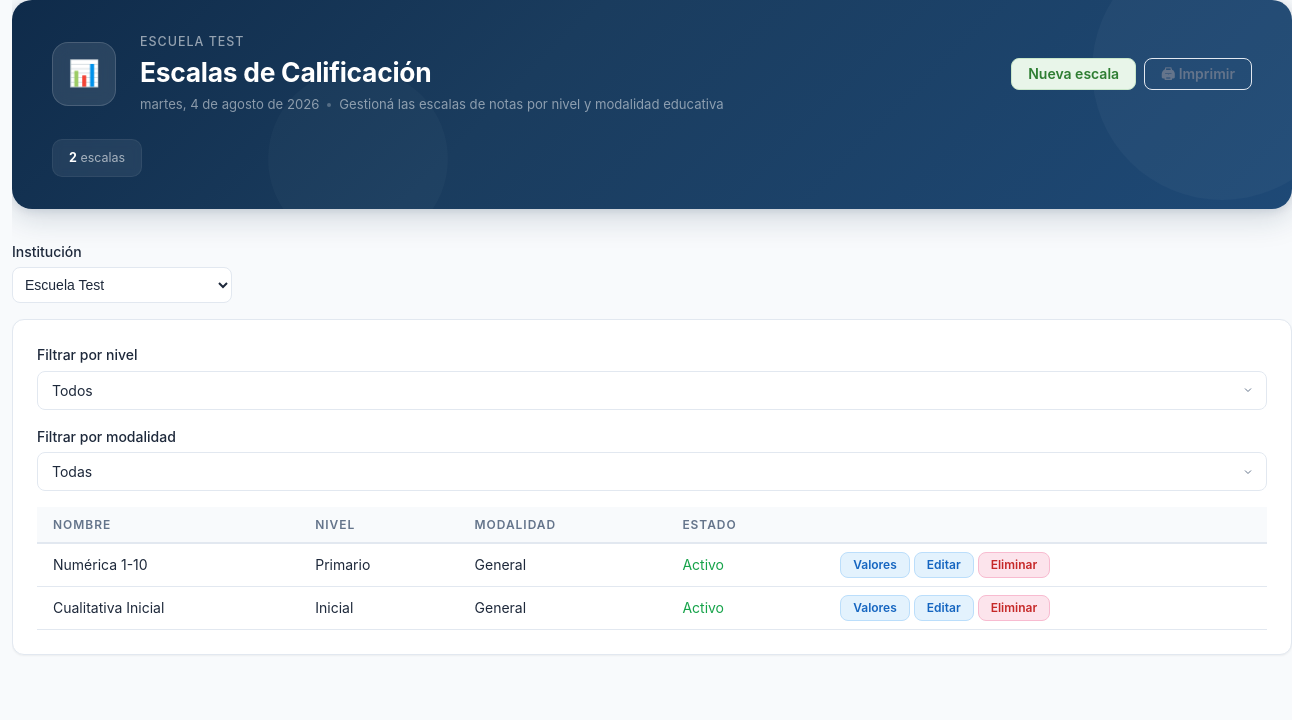
Test: GradingScalesPage — basic rendering › form to create scale has name, level and modality fields
The width and height of the screenshot is (1292, 720).
Open the create form
Click the button "Nueva escala": (1074, 74) [1011, 58, 1136, 90]
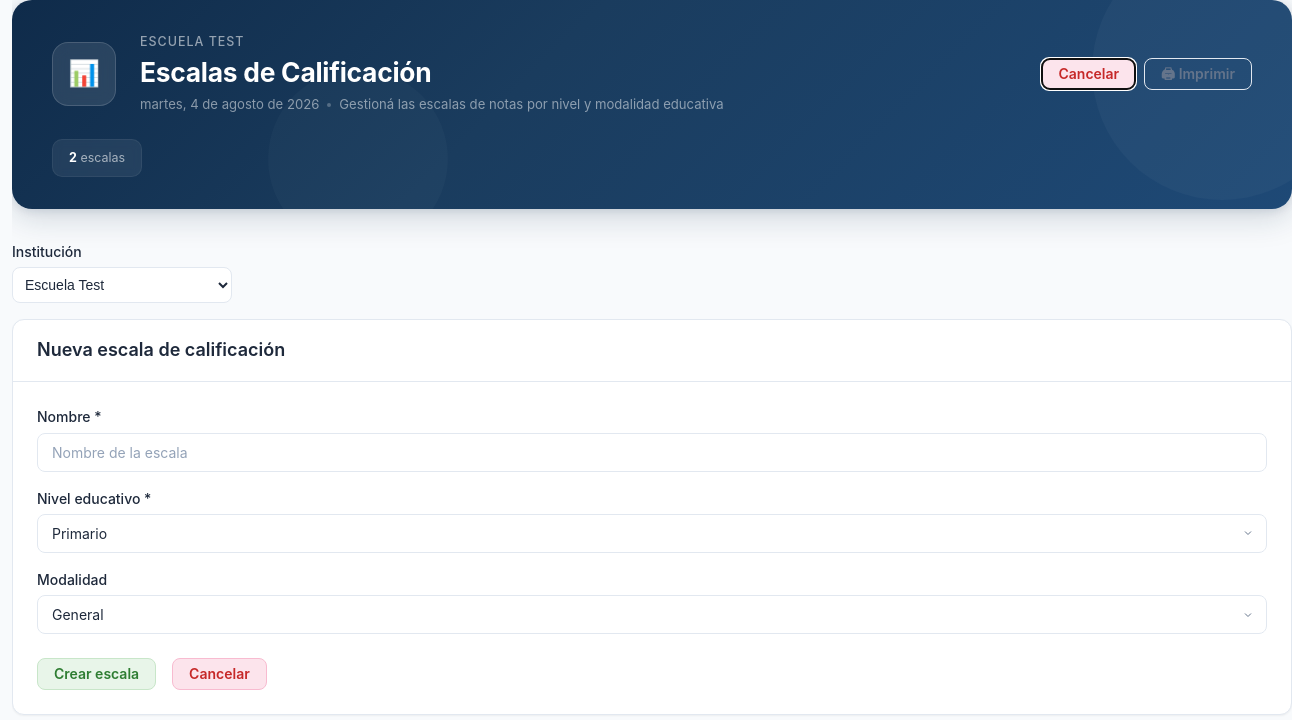
Now the field with placeholder "Nombre de la escala" is shown, box [37, 433, 1267, 472]
